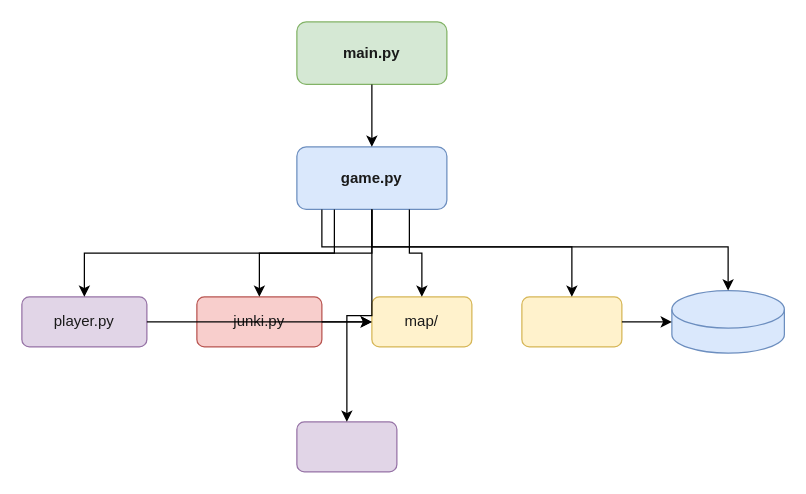
The diagram is 806 pixels wide and 494 high, and some of its shapes have lost their labels. Here are the shapes that lost their labels. From the top down, the box of each, then its label:
(521, 296, 622, 347): puzzle/
(671, 289, 784, 353): db/
(296, 421, 397, 472): ui/
